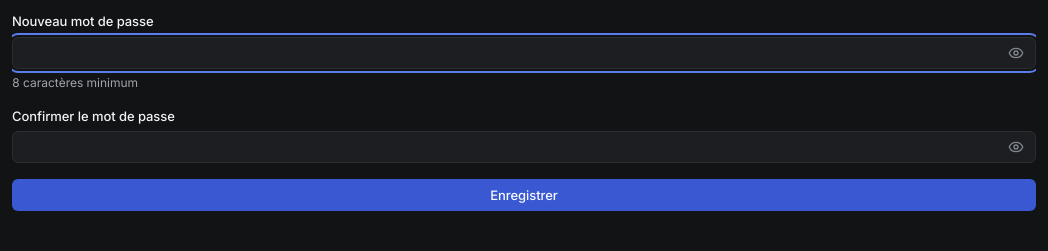
Test: <SetPasswordForm> › rejects a confirmation mismatch
Type "longenough1" into the password field labelled "Nouveau mot de passe" at (524, 53), box [12,37,1036,69]
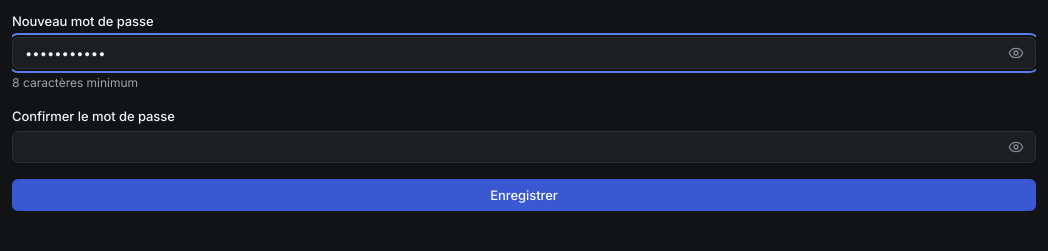
Type "different1" into the password field labelled "Confirmer le mot de passe" at (524, 147), box [12,131,1036,163]
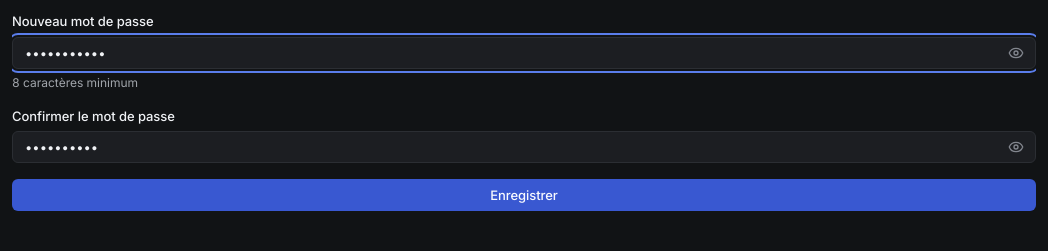
Click the button "Enregistrer" at (524, 195), box [12,179,1036,211]
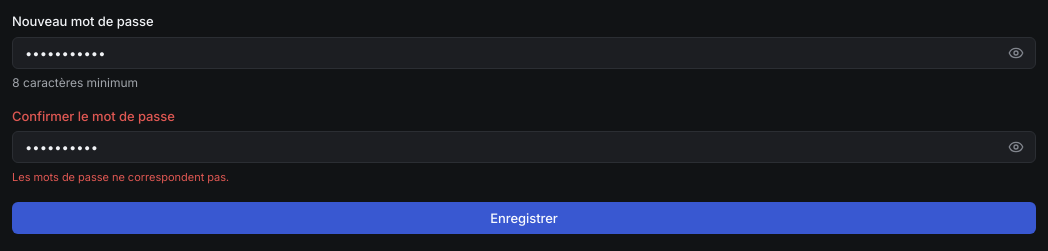
Now the text "Les mots de passe ne correspondent pas." is shown, box [12,170,229,184]
